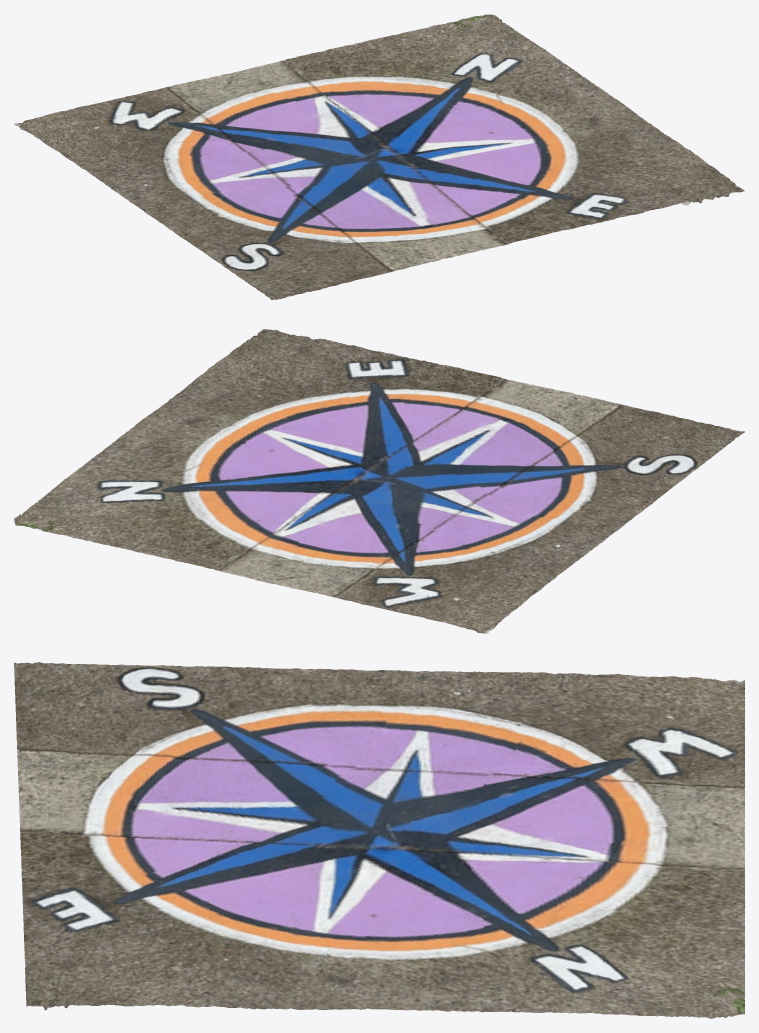
The model's file is compass_floor.glb.
The picture shows the model from 3 angles, top to bottom: view 1: azimuth 30°, elevation 25°; view 2: azimuth 150°, elevation 25°; view 3: azimuth 270°, elevation 25°; orthographic projection. The views are drawn at different scales.
Visible parts, largest first — view 1: Object_4; view 2: Object_4; view 3: Object_4.
Boxes of the visible parts, x1,y1,x2,y2 form: Object_4: [14, 14, 744, 299]; Object_4: [14, 329, 744, 633]; Object_4: [14, 662, 744, 1018].
Size of the model in its own units: 1.7 by 0.0713 by 1.6.
Materials: 1 (1 with a texture image).
